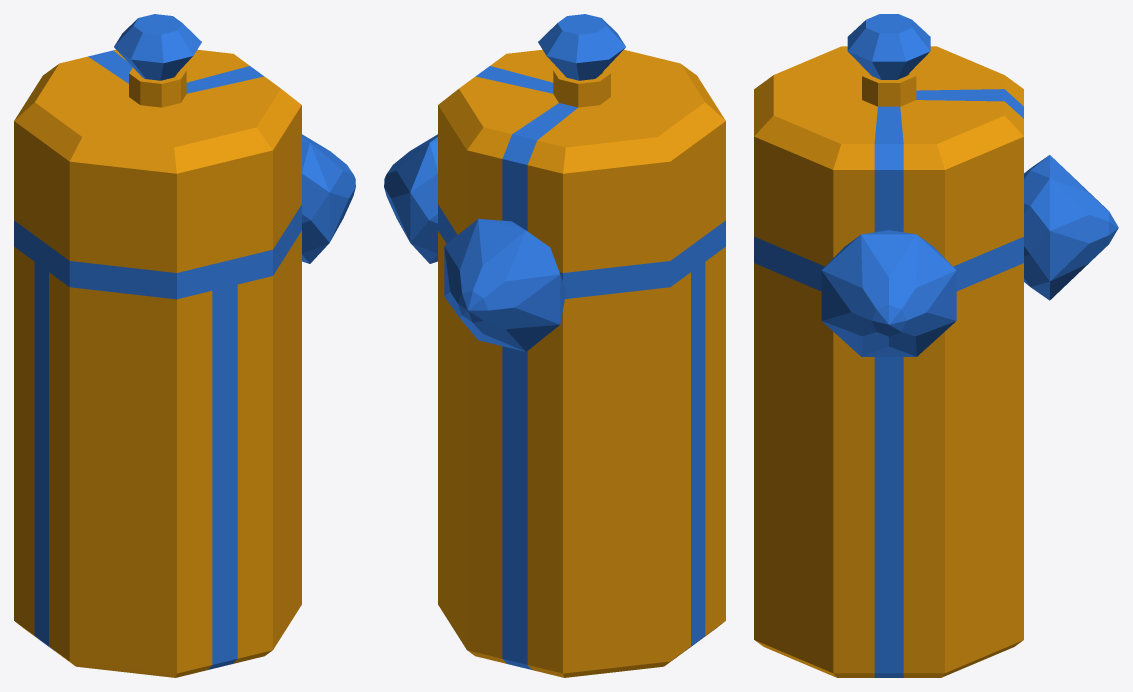
Rendered from LP_Reflector_90.fbx.
3 views of the same model, side by side, from view 1: azimuth 30°, elevation 25°; view 2: azimuth 150°, elevation 25°; view 3: azimuth 270°, elevation 25° (orthographic).
Parts seen in each view (by area): view 1: Cylinder.002; view 2: Cylinder.002; view 3: Cylinder.002.
Part boxes in pixels (<box>): Cylinder.002: <box>14,14,355,677</box>; Cylinder.002: <box>384,14,725,677</box>; Cylinder.002: <box>754,14,1118,677</box>.
Size of the model in its own units: 1.87 by 3.41 by 1.87.
